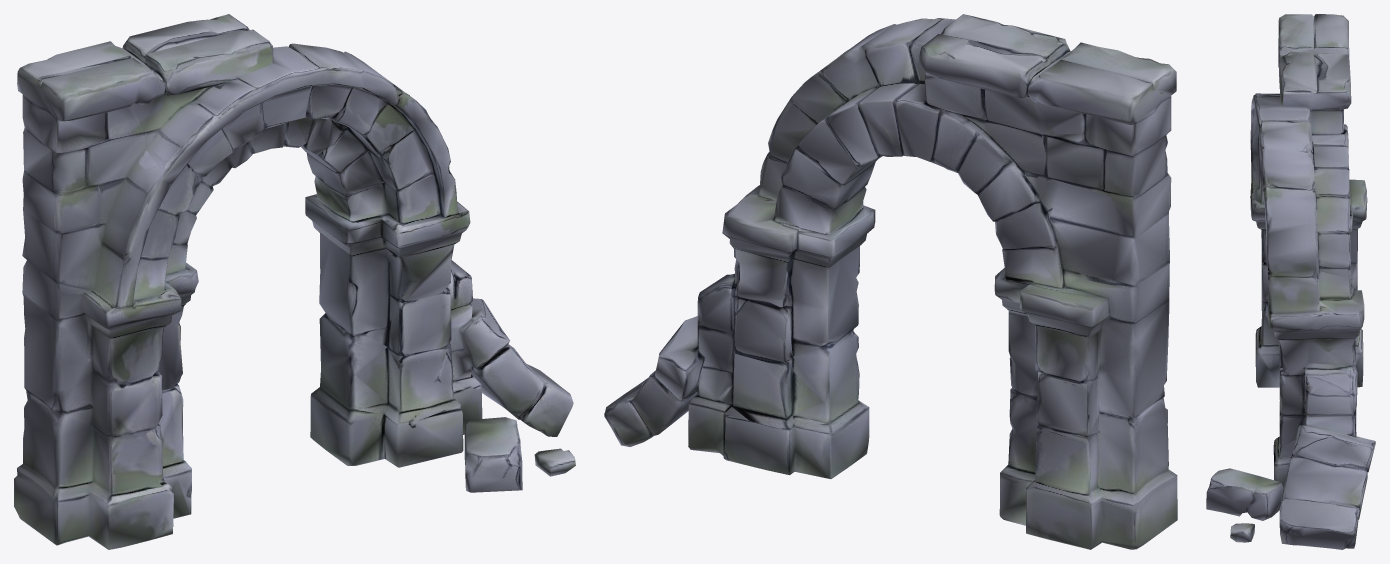
Rendered from broken_arch.glb.
The picture shows the model from 3 angles, left to right: view 1: azimuth 30°, elevation 25°; view 2: azimuth 150°, elevation 25°; view 3: azimuth 270°, elevation 25°; orthographic projection. The views are drawn at different scales.
Parts seen in each view (by area): view 1: broken_arch; view 2: broken_arch; view 3: broken_arch.
Boxes of the visible parts, x1,y1,x2,y2 form: broken_arch: (14,14,575,549); broken_arch: (604,14,1177,549); broken_arch: (1206,14,1375,549).
Bounding box in the file's own units: 7.76 × 6.6 × 2.87.
Materials: 1 (1 with a texture image).
